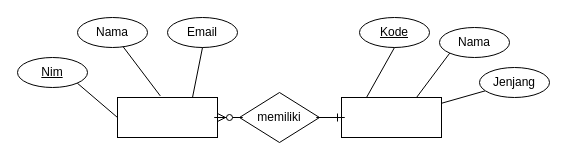
Some shapes in this 567 by 160 pixel diagram are drawn without their labels. Each missing label, with the centre of its shape:
Jurusan: [391,117]
Mahasiswa: [167,117]
